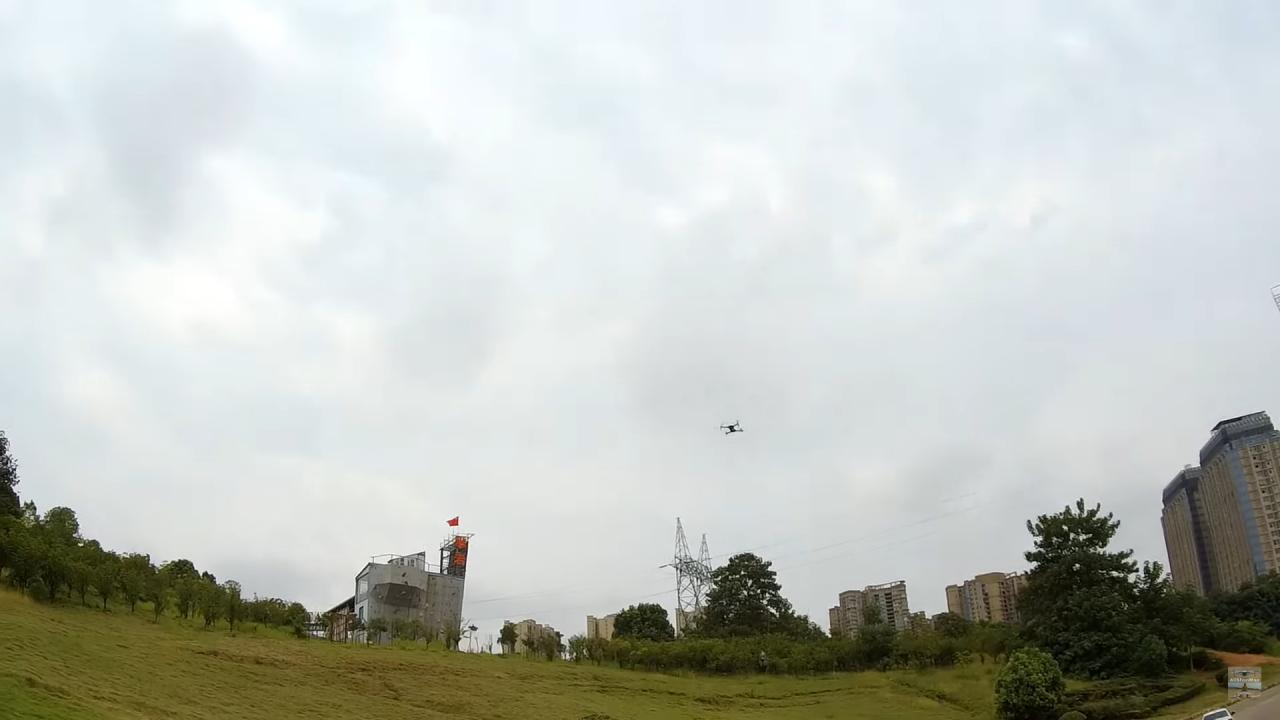Drone: (712, 414, 750, 441)
